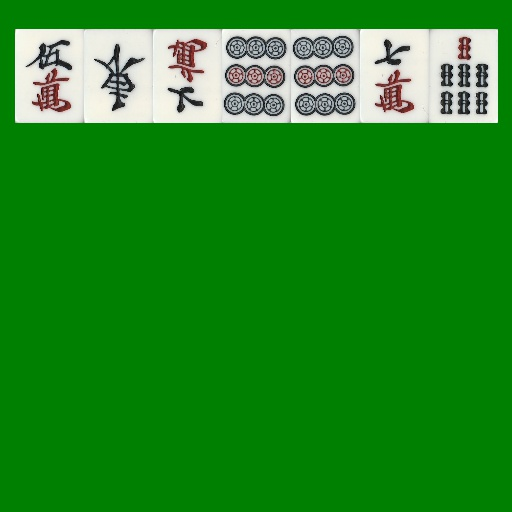5m: (15, 29, 84, 123)
7m: (153, 29, 222, 123), (360, 29, 429, 123)
7s: (429, 29, 498, 123)
9p: (222, 29, 291, 123), (291, 29, 360, 123)
east: (84, 29, 153, 123)
